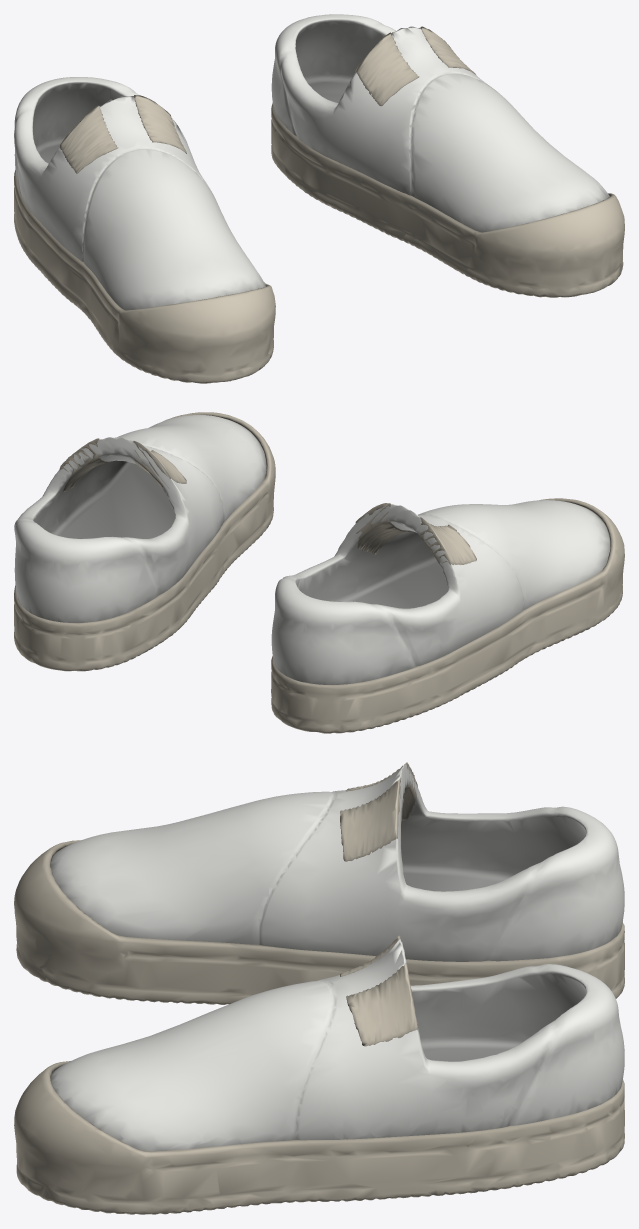
Rendered from 18_zapatillas_slip_on.glb.
3 renders of one model, top to bottom at view 1: azimuth 30°, elevation 25°; view 2: azimuth 150°, elevation 25°; view 3: azimuth 270°, elevation 25°, orthographic. The views are drawn at different scales.
Visible parts, largest first — view 1: Zapatillas slip-on; view 2: Zapatillas slip-on; view 3: Zapatillas slip-on.
Boxes of the visible parts, <box> form: Zapatillas slip-on: <box>14,14,624,383</box>; Zapatillas slip-on: <box>14,412,624,733</box>; Zapatillas slip-on: <box>14,762,624,1214</box>.
Bounding box in the file's own units: 0.3726 × 0.1235 × 0.3177.
